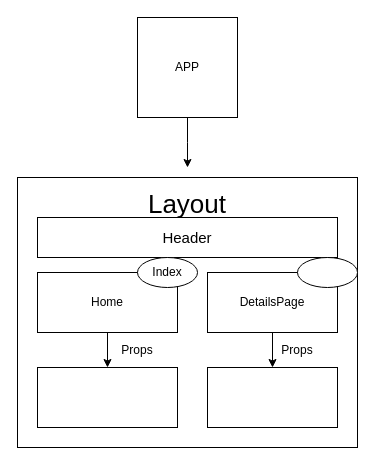
Some shapes in this 375 by 465 pixel diagram are drawn without their labels. Each missing label, with the centre of its shape:
"CardMovie" belongs at (107,397).
"CardReview" belongs at (272,397).
"Show" belongs at (327,272).
